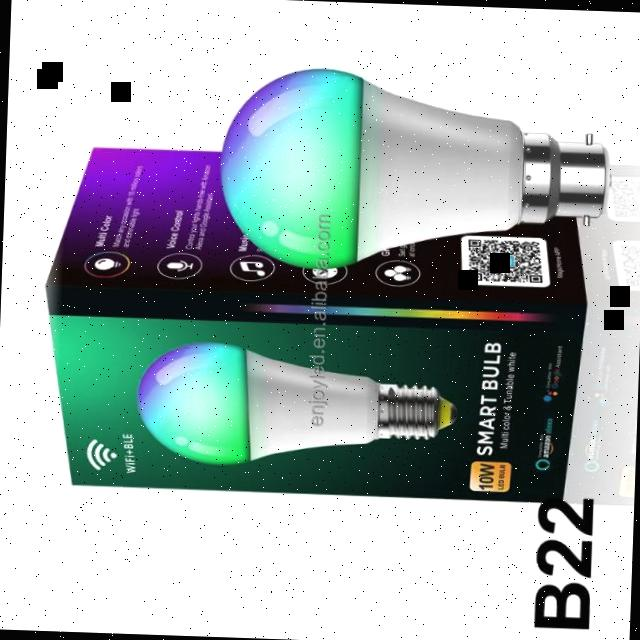light_bulb: (208, 58, 616, 280)
